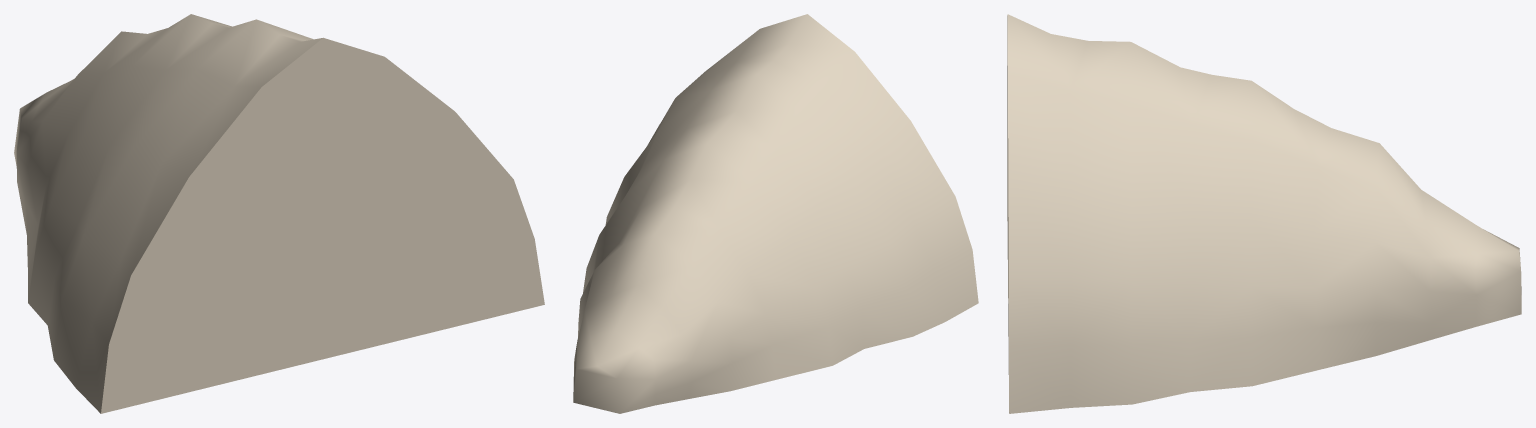
Rendered from cloth-base.glb.
3 renders of one model, left to right at view 1: azimuth 30°, elevation 25°; view 2: azimuth 150°, elevation 25°; view 3: azimuth 270°, elevation 25°, orthographic. The views are drawn at different scales.
Size of the model in its own units: 1.96 by 1.36 by 2.11.
